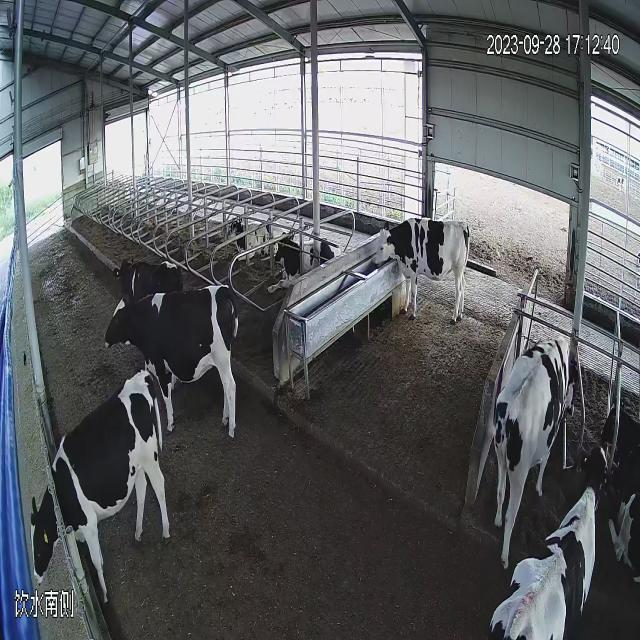drinking: (368, 202, 476, 330)
lying down: (267, 230, 348, 297), (222, 212, 278, 269)
standing: (23, 362, 174, 619), (100, 256, 244, 450), (491, 332, 587, 584)
